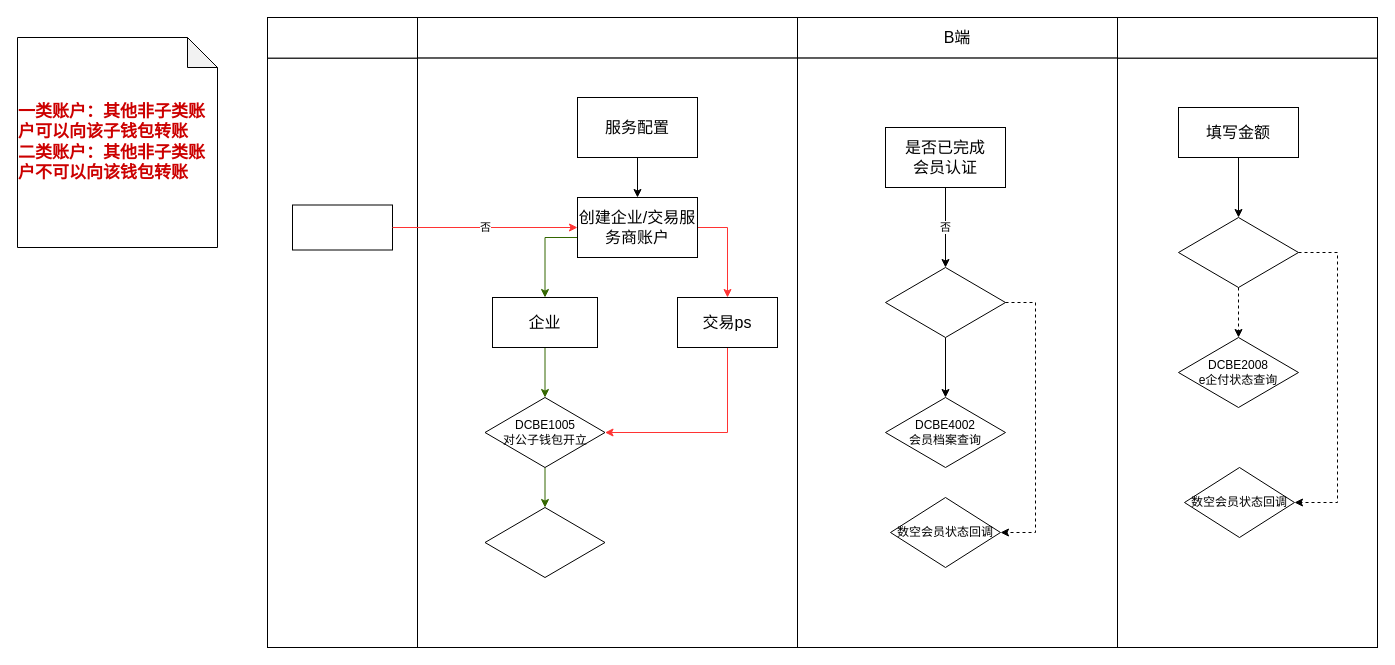
This 1395x665 diagram has some shape labels left out. Here are the shapes that lost their labels. From the top down, the box of each, then its label:
(266, 16, 418, 58): C端小程序
(416, 16, 798, 58): ps端
(1116, 16, 1378, 58): 充值
(292, 204, 392, 250): 是否有子钱包
(1178, 216, 1298, 288): DCBE2007 e企付申请
(884, 266, 1006, 338): DCBE4001 会员认证
(484, 506, 605, 578): DCBE4000 会员档案录入
